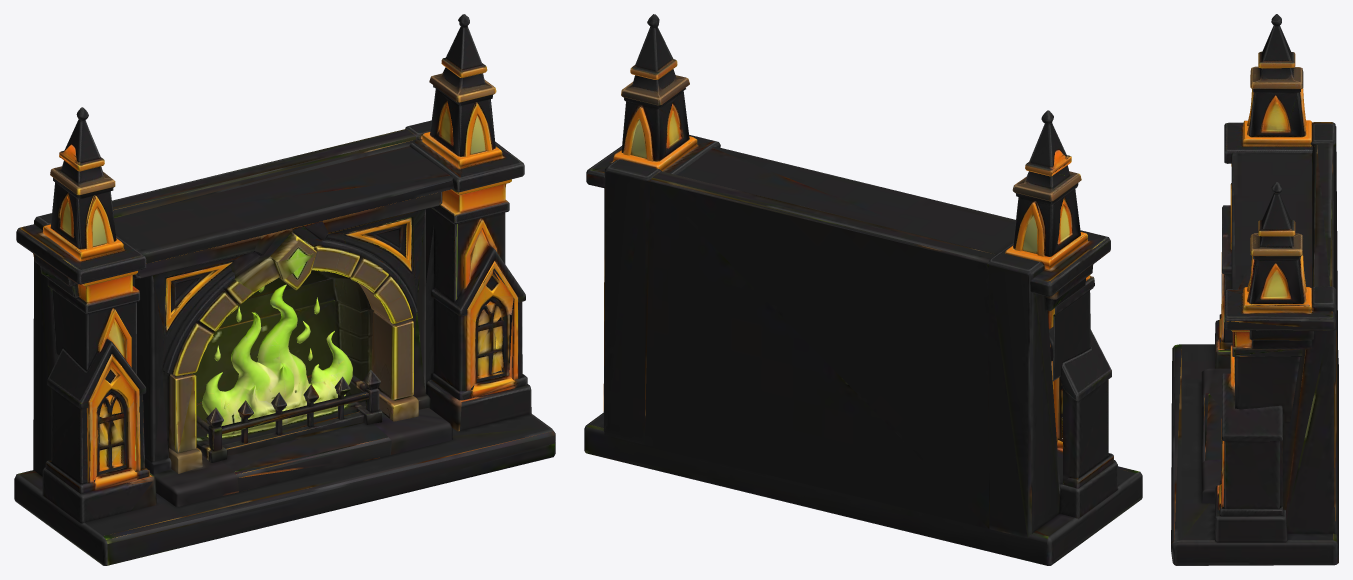
File: halloween_haunted_fireplace.glb
3 views of the same model, side by side, from view 1: azimuth 30°, elevation 25°; view 2: azimuth 150°, elevation 25°; view 3: azimuth 270°, elevation 25° (orthographic). The views are drawn at different scales.
Parts seen in each view (by area): view 1: furniture-fit; view 2: furniture-fit; view 3: furniture-fit.
Boxes of the visible parts, bbox=[...] form: furniture-fit: bbox=[14, 14, 555, 565]; furniture-fit: bbox=[584, 14, 1142, 565]; furniture-fit: bbox=[1171, 14, 1338, 565].
Size of the model in its own units: 2.6 by 2.25 by 0.927.
Materials: 1 (1 with a texture image).
